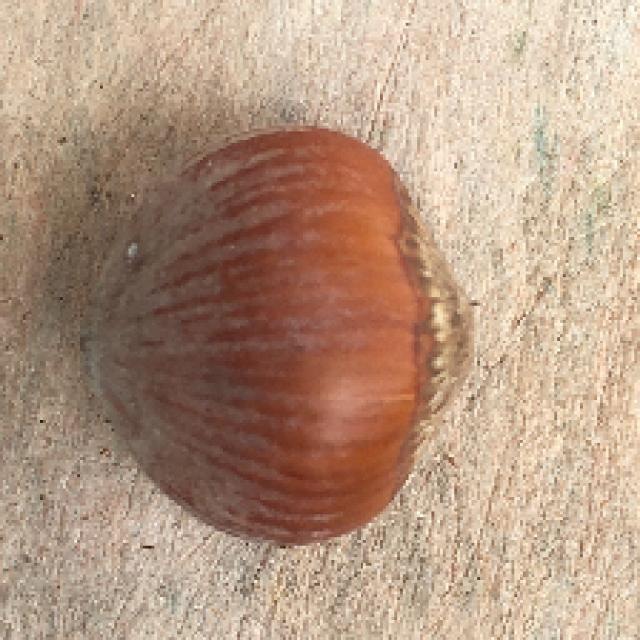QualityHazelnut: (79, 129, 478, 554)
